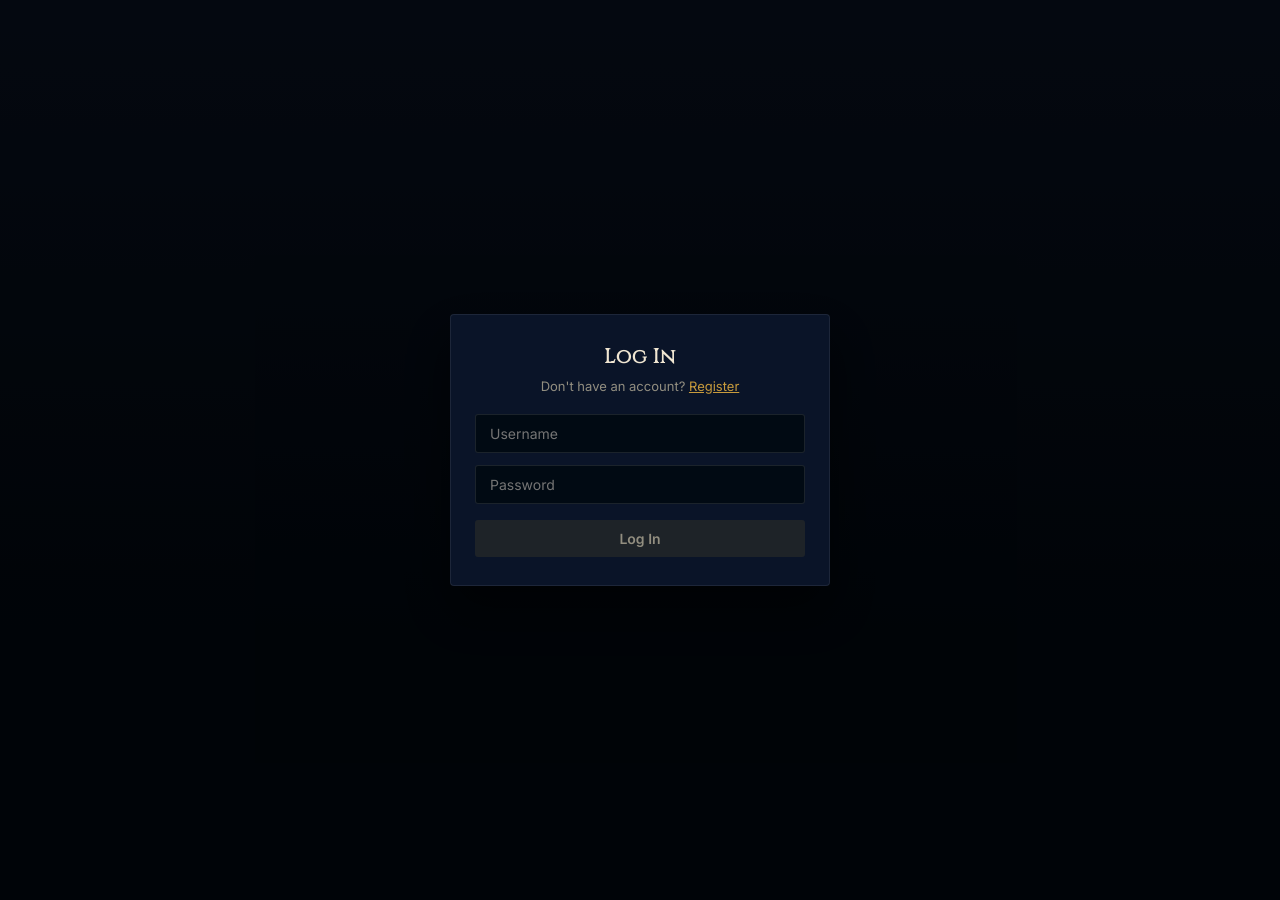
Test: AuthModal › toggles back to login mode
Click the button "Register".
click(714, 386)  # box [689,378,739,394]
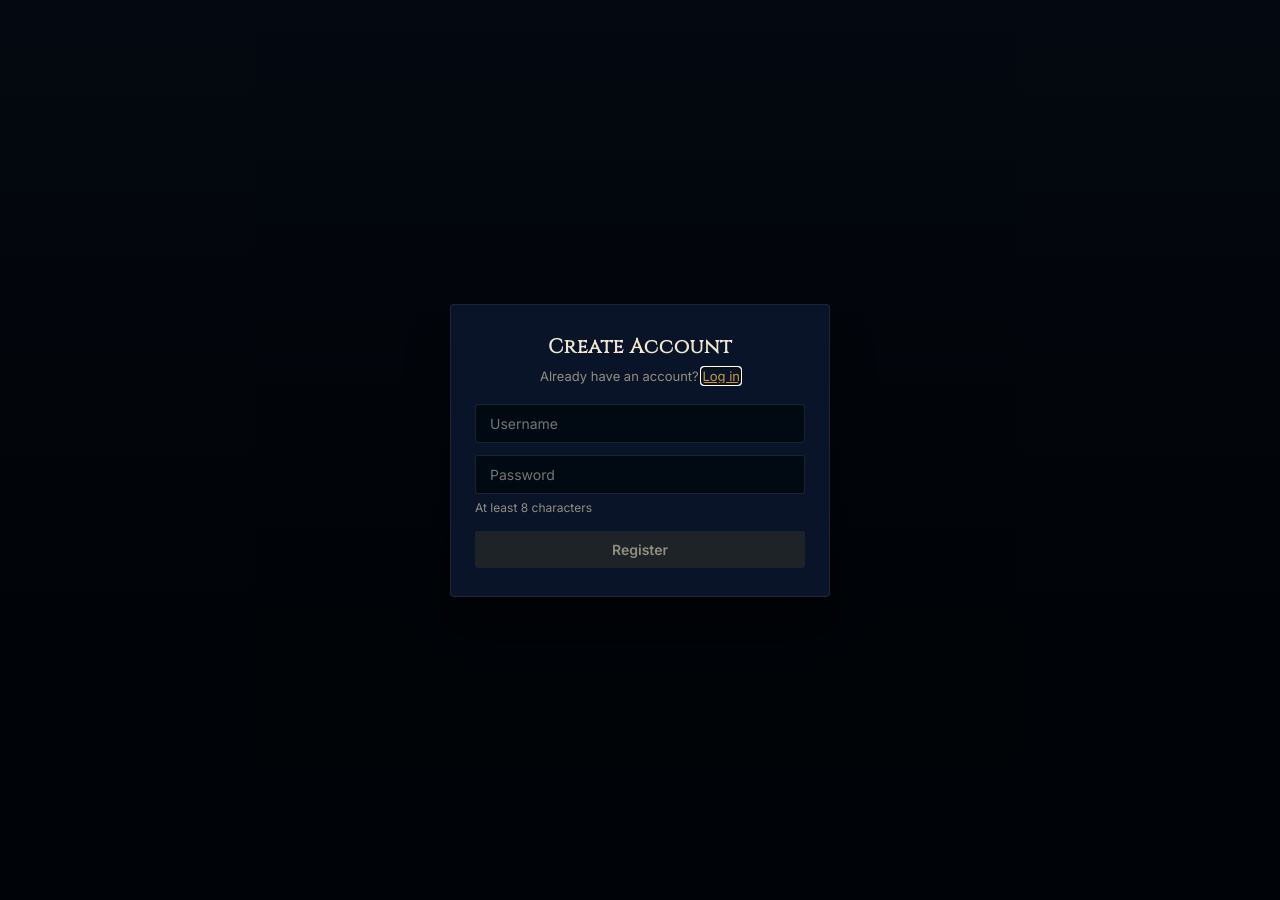
Click the button "Log in".
click(721, 376)  # box [702,368,740,384]
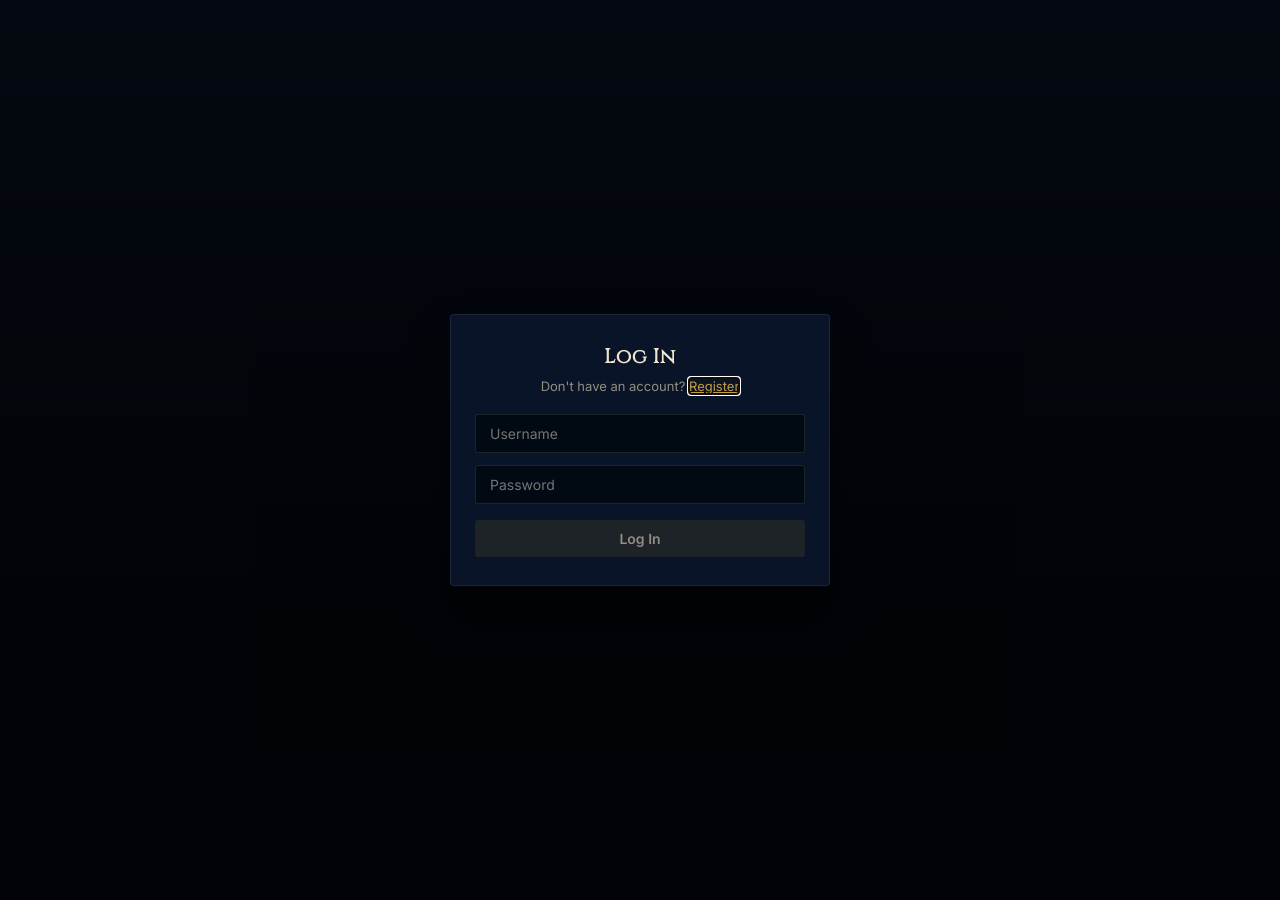
expect the heading "Log In" is shown: met, box [604,343,676,370]
